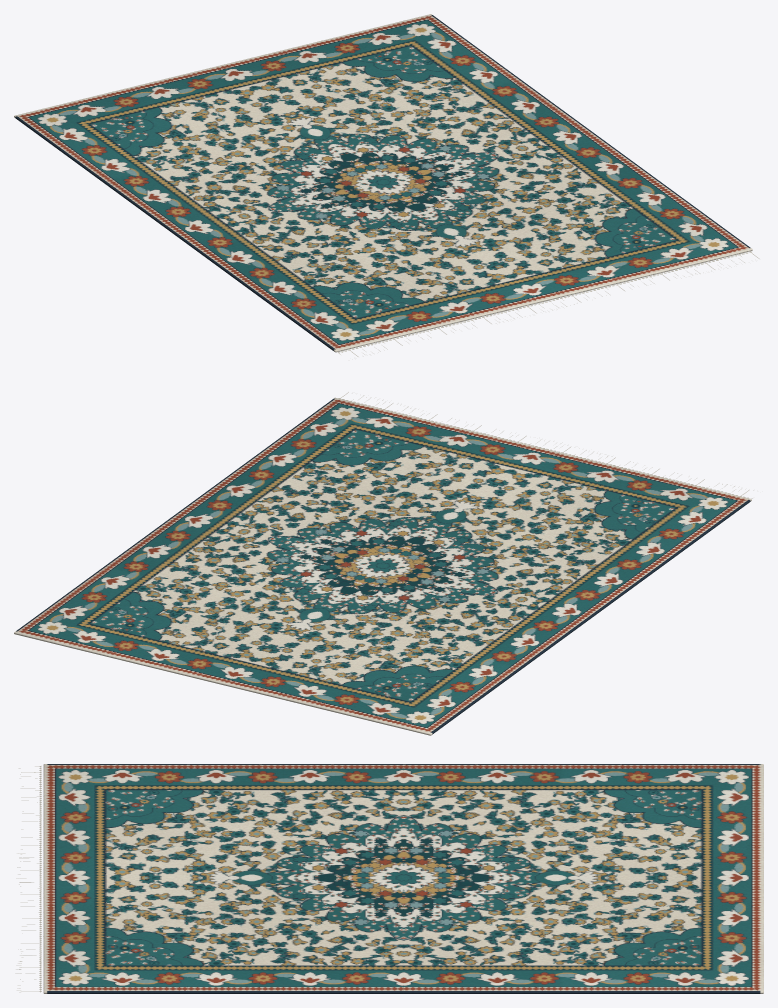
File: rug-isfahan-wall.58b3f966.glb
The picture shows the model from 3 angles, top to bottom: view 1: azimuth 30°, elevation 25°; view 2: azimuth 150°, elevation 25°; view 3: azimuth 270°, elevation 25°; orthographic projection. The views are drawn at different scales.
Parts seen in each view (by area): view 1: rug-isfahan-wall, rug-isfahan-wall-fringe; view 2: rug-isfahan-wall, rug-isfahan-wall-fringe; view 3: rug-isfahan-wall, rug-isfahan-wall-fringe.
Part boxes in pixels (bbox=[...]): rug-isfahan-wall: bbox=[14, 14, 752, 352]; rug-isfahan-wall-fringe: bbox=[337, 251, 759, 359]; rug-isfahan-wall: bbox=[14, 397, 751, 735]; rug-isfahan-wall-fringe: bbox=[338, 392, 753, 499]; rug-isfahan-wall: bbox=[43, 764, 763, 993]; rug-isfahan-wall-fringe: bbox=[15, 766, 43, 992].
Bounding box in the file's own units: 1.5 × 0.007 × 2.08.
Materials: 2 (2 with a texture image).
